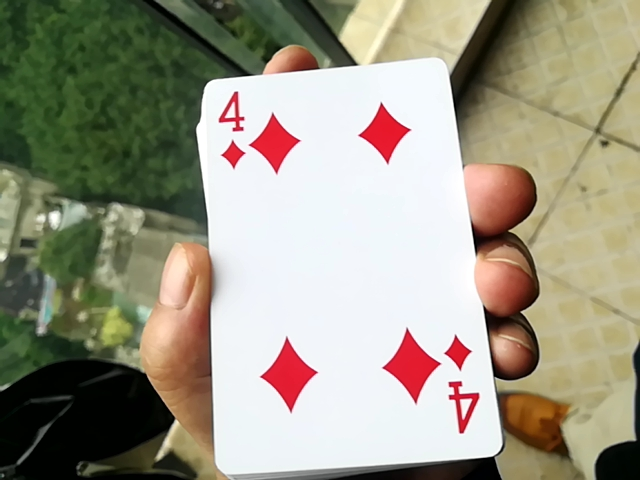fk 4: (184, 40, 488, 474)
